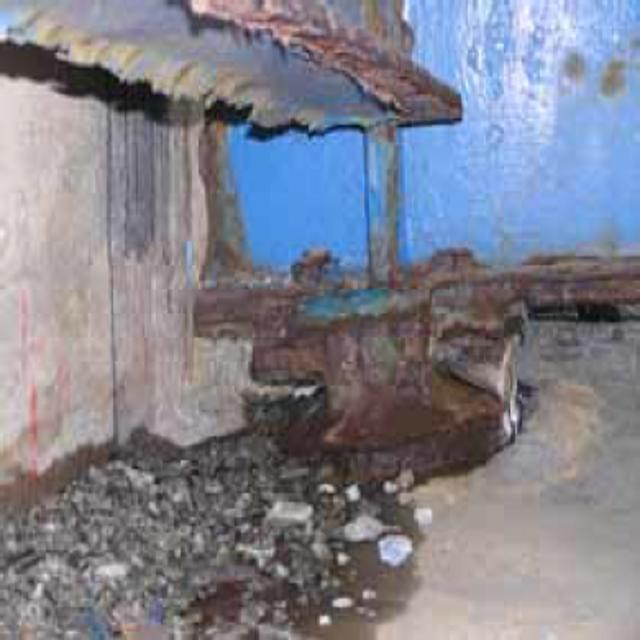corrosion: (202, 257, 578, 469), (183, 4, 477, 130)
